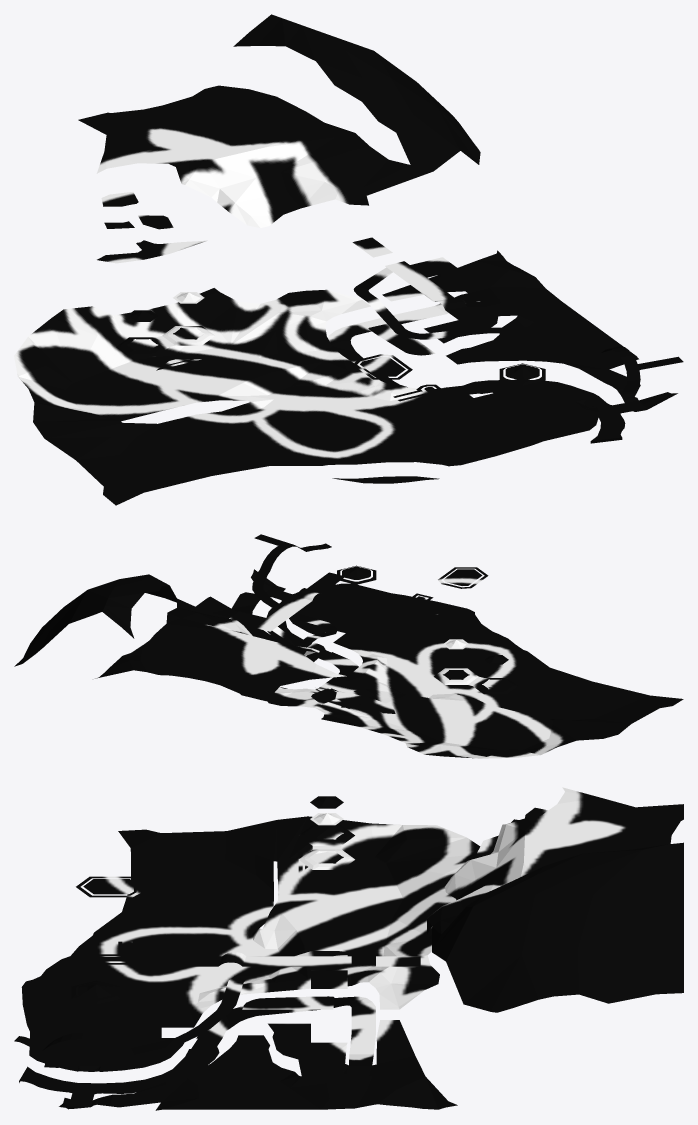
Rendered from pollution00.dae.
3 renders of one model, top to bottom at view 1: azimuth 30°, elevation 25°; view 2: azimuth 150°, elevation 25°; view 3: azimuth 270°, elevation 25°, orthographic. The views are drawn at different scales.
Parts seen in each view (by area): view 1: m0; view 2: m0; view 3: m0.
Part boxes in pixels (x1,y1,x2,y2): m0: [14, 14, 683, 505]; m0: [14, 534, 683, 758]; m0: [14, 787, 683, 1110].
Bounding box in the file's own units: 16384 × 5996 × 16478.
